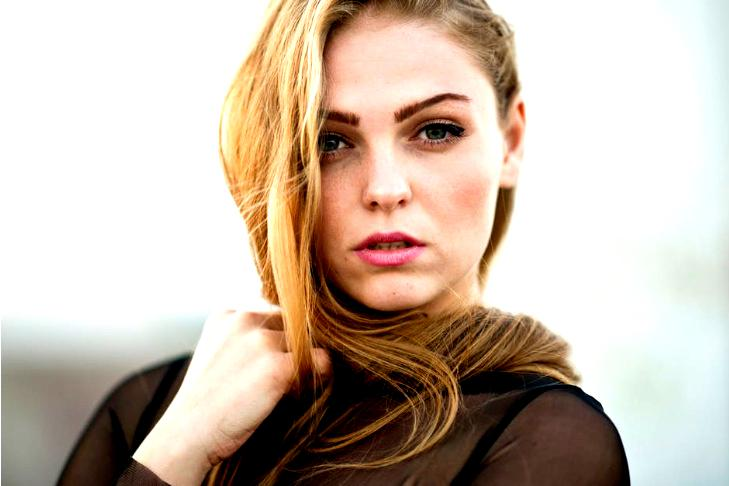face: (303, 20, 503, 310)
